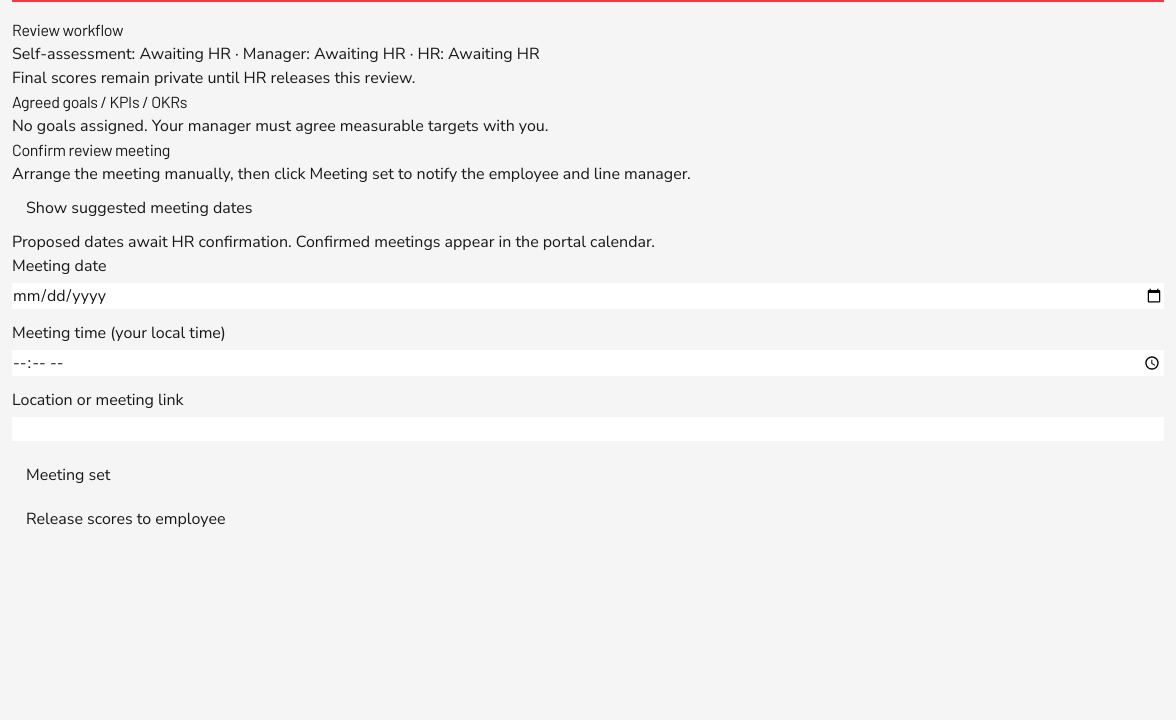
Scenario: backend rejection is visible and does not advance the workflow
The image size is (1176, 720).
Click the button "Release scores to employee": {"x": 126, "y": 519} [12,497,240,541]
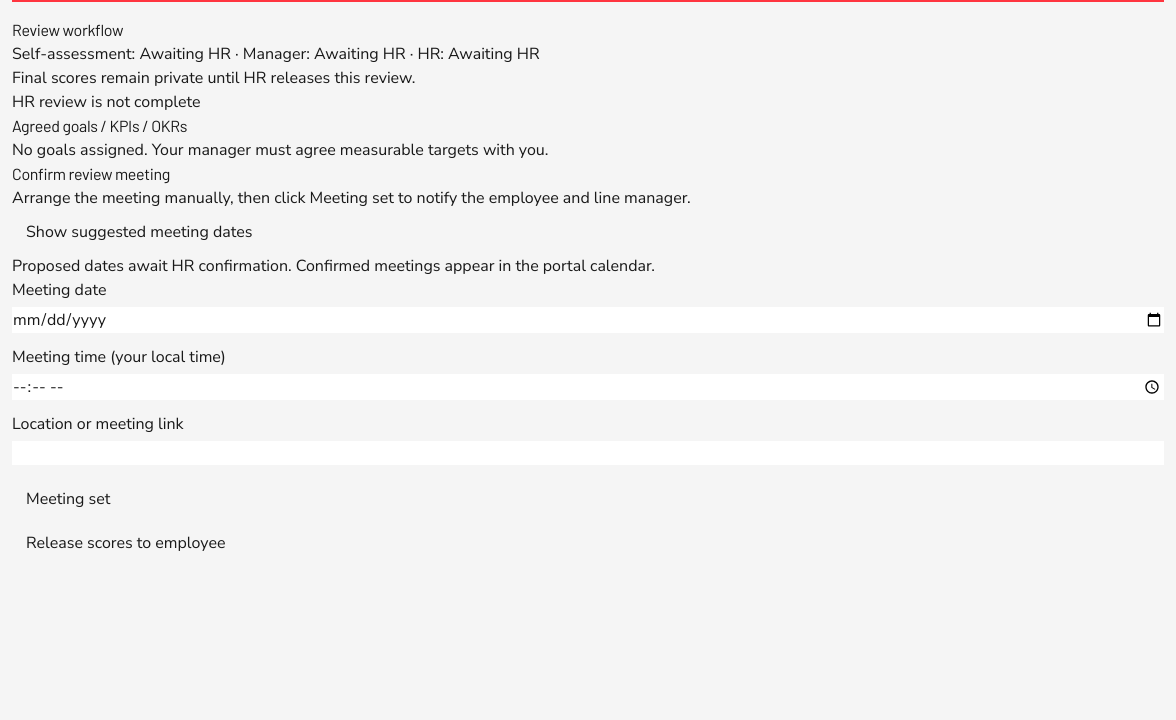
Expected: the message "HR review is not complete" is shown, [12,91,200,113]
